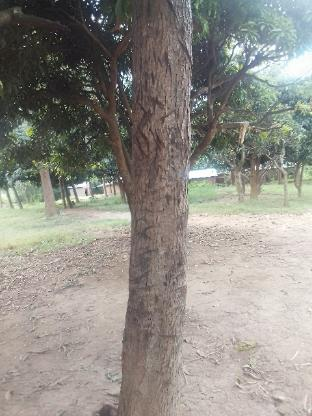tree: (109, 0, 210, 416)
